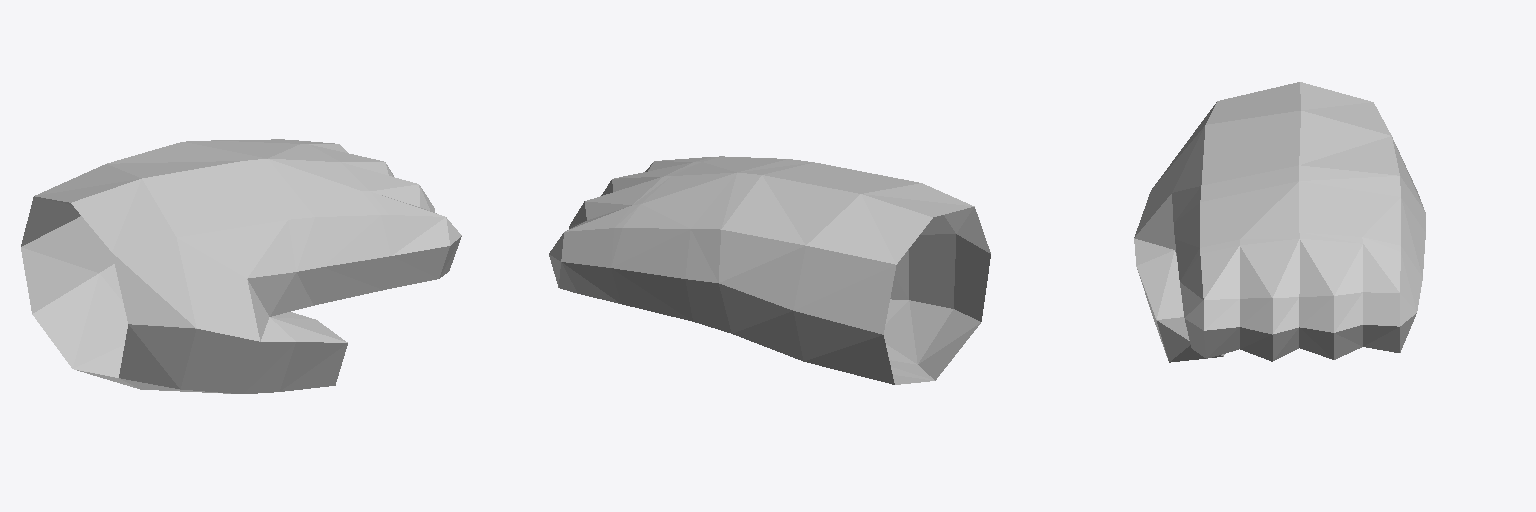
File: hand_L.obj
3 renders of one model, left to right at view 1: azimuth 30°, elevation 25°; view 2: azimuth 150°, elevation 25°; view 3: azimuth 270°, elevation 25°, orthographic.
Parts seen in each view (by area): view 1: KERORO; view 2: KERORO; view 3: KERORO.
Boxes of the visible parts, x1=… form: KERORO: x1=21, y1=139, x2=461, y2=393; KERORO: x1=549, y1=156, x2=990, y2=384; KERORO: x1=1134, y1=82, x2=1425, y2=362.
Size of the model in its own units: 1.33 by 0.6858 by 0.9548.